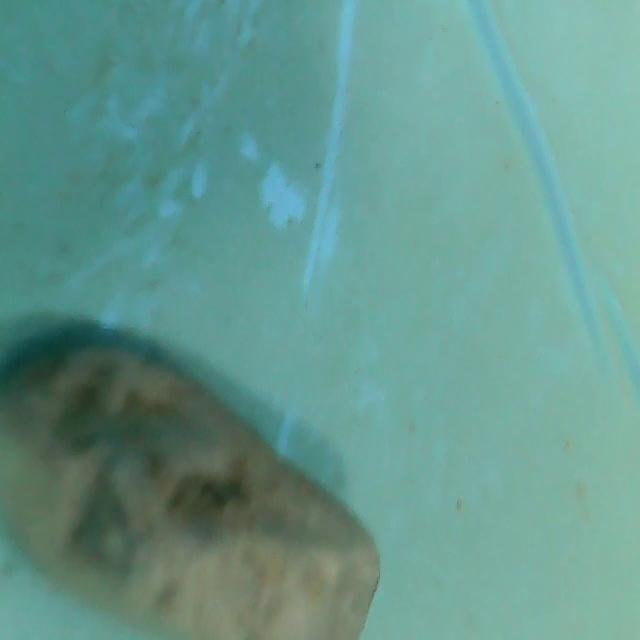rock: (0, 334, 389, 640)
